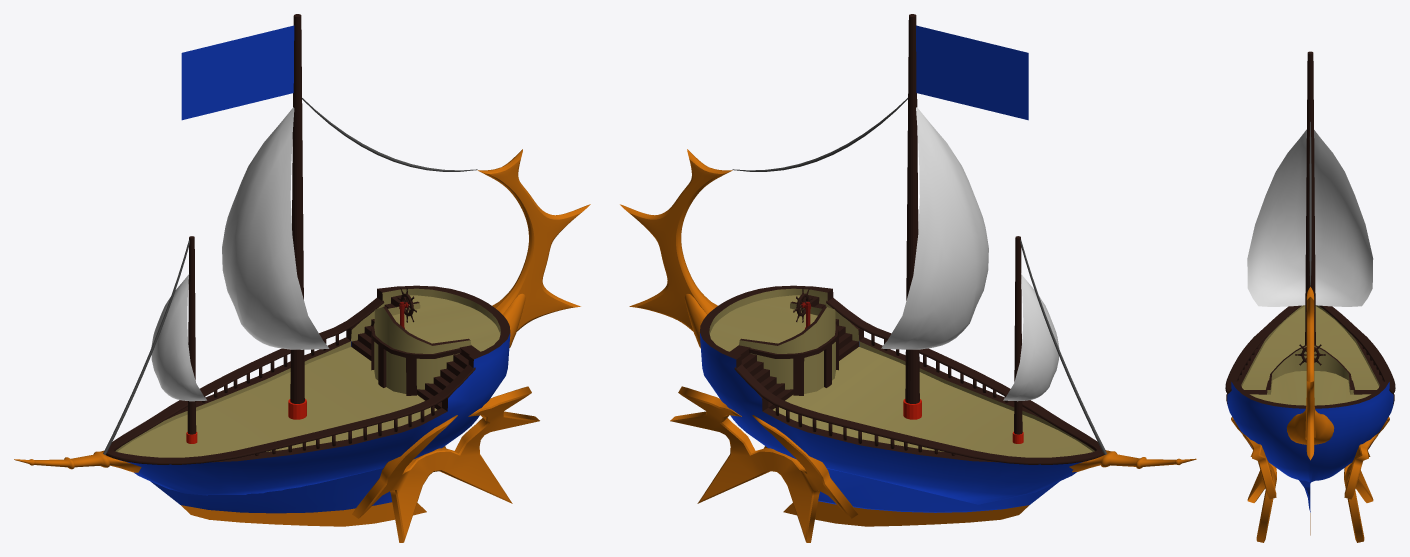
Rendered from Boat_PH.fbx.
3 views of the same model, side by side, from view 1: azimuth 30°, elevation 25°; view 2: azimuth 150°, elevation 25°; view 3: azimuth 270°, elevation 25° (orthographic). The views are drawn at different scales.
Parts seen in each view (by area): view 1: PH_Boat; view 2: PH_Boat; view 3: PH_Boat.
Boxes of the visible parts, x1,y1,x2,y2 form: PH_Boat: (14,14,590,542); PH_Boat: (620,14,1196,542); PH_Boat: (1225,51,1395,542).
Bounding box in the file's own units: 1600 × 1400 × 500.
